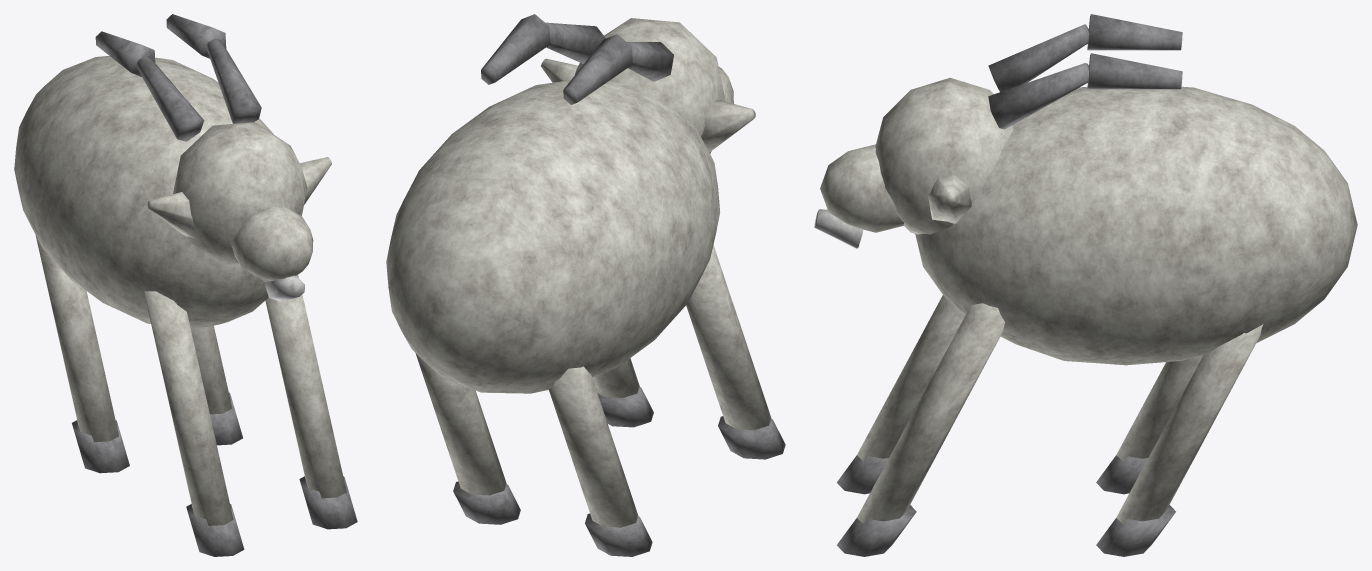
File: mob_kambing_walk1.obj
3 views of the same model, side by side, from view 1: azimuth 30°, elevation 25°; view 2: azimuth 150°, elevation 25°; view 3: azimuth 270°, elevation 25° (orthographic). The views are drawn at different scales.
Visible parts, largest first — view 1: mob_kambing_walk1; view 2: mob_kambing_walk1; view 3: mob_kambing_walk1.
Boxes of the visible parts, left/top/right/bottom form: mob_kambing_walk1: left=14, top=14, right=357, bottom=556; mob_kambing_walk1: left=386, top=14, right=785, bottom=556; mob_kambing_walk1: left=814, top=14, right=1357, bottom=556.
Bounding box in the file's own units: 0.5506 × 1.05 × 1.08.
1 material, 1 textured.
